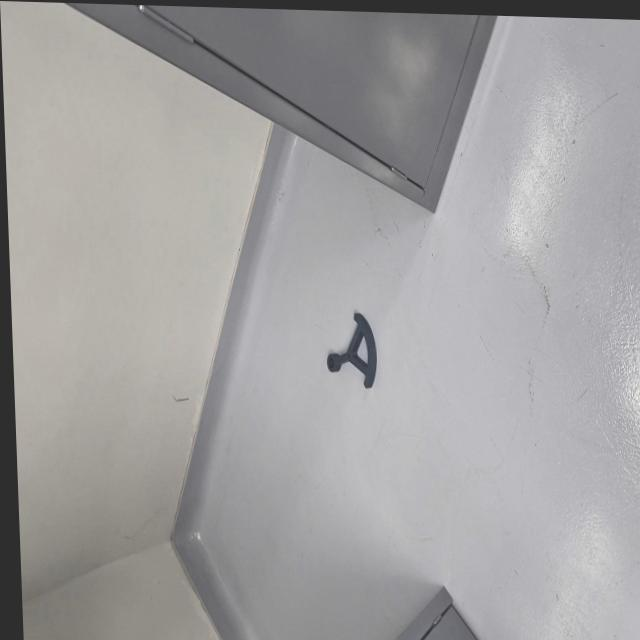haptic: (325, 310, 378, 389)
